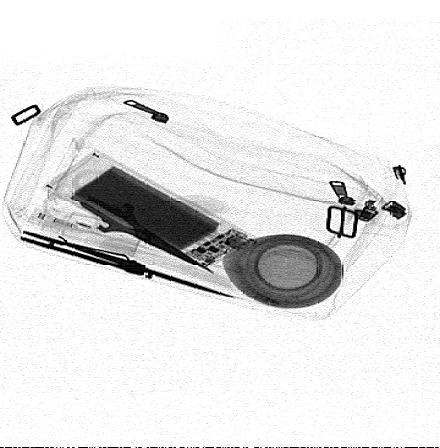Knife: (17, 228, 242, 301)
Powerbank: (43, 149, 260, 267)
Scissors: (41, 170, 224, 279)
